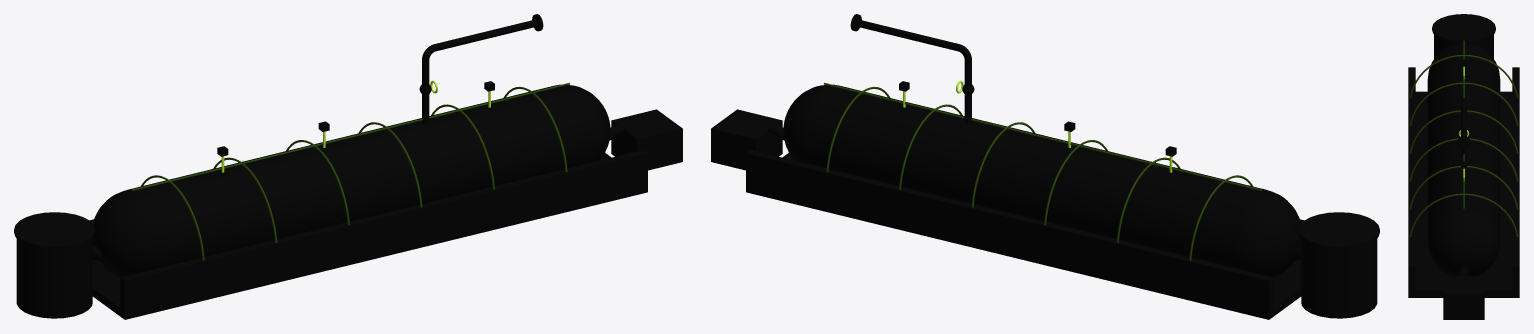
The model's file is biodigestor-tubular.obj.
3 renders of one model, left to right at view 1: azimuth 30°, elevation 25°; view 2: azimuth 150°, elevation 25°; view 3: azimuth 270°, elevation 25°, orthographic. The views are drawn at different scales.
Parts seen in each view (by area): view 1: membrana_cuerpo_relleno, zanja_muro_frontal_relleno, zanja_piso_relleno, tanque_mezcla_relleno, membrana_extremo_entrada_relleno, caja_biol_relleno, tanque_mezcla_tapa_relleno, membrana_extremo_salida_relleno, larguero_cumbrera, tubo_biogas_horizontal_relleno; view 2: membrana_cuerpo_relleno, zanja_muro_posterior_relleno, zanja_piso_relleno, tanque_mezcla_relleno, membrana_extremo_entrada_relleno, caja_biol_relleno, tanque_mezcla_tapa_relleno, membrana_extremo_salida_relleno, larguero_cumbrera, tubo_biogas_horizontal_relleno; view 3: membrana_cuerpo_relleno, zanja_piso_relleno, membrana_extremo_salida_relleno, caja_biol_relleno, zanja_muro_frontal_relleno, zanja_muro_posterior_relleno, tanque_mezcla_tapa_relleno, tanque_mezcla_relleno, arco_cubierta_6, arco_cubierta_2, arco_cubierta_1, arco_cubierta_3 (+6 smaller).
Boxes of the visible parts, x1=… form: membrana_cuerpo_relleno: x1=128, y1=85, x2=587, y2=267; zanja_muro_frontal_relleno: x1=120, y1=150, x2=647, y2=311; zanja_piso_relleno: x1=92, y1=153, x2=647, y2=319; tanque_mezcla_relleno: x1=16, y1=239, x2=92, y2=318; membrana_extremo_entrada_relleno: x1=92, y1=190, x2=160, y2=277; caja_biol_relleno: x1=611, y1=109, x2=682, y2=170; tanque_mezcla_tapa_relleno: x1=14, y1=212, x2=95, y2=249; membrana_extremo_salida_relleno: x1=555, y1=84, x2=610, y2=163; larguero_cumbrera: x1=131, y1=82, x2=569, y2=191; tubo_biogas_horizontal_relleno: x1=434, y1=19, x2=538, y2=51; membrana_cuerpo_relleno: x1=806, y1=85, x2=1265, y2=267; zanja_muro_posterior_relleno: x1=746, y1=150, x2=1273, y2=311; zanja_piso_relleno: x1=746, y1=153, x2=1301, y2=319; tanque_mezcla_relleno: x1=1301, y1=239, x2=1377, y2=318; membrana_extremo_entrada_relleno: x1=1233, y1=190, x2=1301, y2=277; caja_biol_relleno: x1=711, y1=109, x2=782, y2=170; tanque_mezcla_tapa_relleno: x1=1298, y1=212, x2=1379, y2=249; membrana_extremo_salida_relleno: x1=783, y1=84, x2=838, y2=163; larguero_cumbrera: x1=824, y1=82, x2=1262, y2=191; tubo_biogas_horizontal_relleno: x1=855, y1=19, x2=959, y2=51; membrana_cuerpo_relleno: x1=1427, y1=46, x2=1500, y2=241; zanja_piso_relleno: x1=1408, y1=91, x2=1519, y2=297; membrana_extremo_salida_relleno: x1=1427, y1=209, x2=1500, y2=276; caja_biol_relleno: x1=1443, y1=276, x2=1484, y2=319; zanja_muro_frontal_relleno: x1=1408, y1=67, x2=1415, y2=291; zanja_muro_posterior_relleno: x1=1512, y1=67, x2=1519, y2=291; tanque_mezcla_tapa_relleno: x1=1432, y1=14, x2=1495, y2=43; tanque_mezcla_relleno: x1=1434, y1=35, x2=1493, y2=58; arco_cubierta_6: x1=1409, y1=193, x2=1518, y2=236; arco_cubierta_2: x1=1409, y1=82, x2=1518, y2=125; arco_cubierta_1: x1=1409, y1=54, x2=1518, y2=98; arco_cubierta_3: x1=1409, y1=110, x2=1518, y2=153.
Size of the model in its own units: 12.18 by 3.04 by 2.3.
